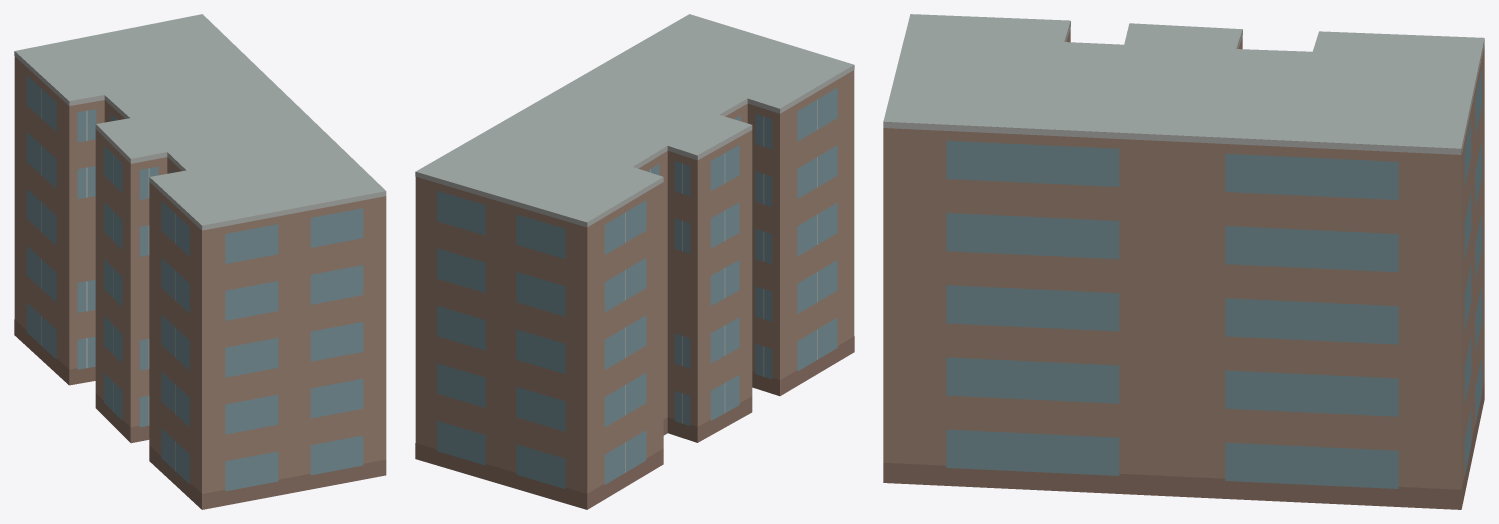
Rendered from survey-upis-32566842.glb.
The picture shows the model from 3 angles, left to right: view 1: azimuth 30°, elevation 25°; view 2: azimuth 150°, elevation 25°; view 3: azimuth 270°, elevation 25°; orthographic projection. The views are drawn at different scales.
Visible parts, largest first — view 1: survey-upis-32566842.tmp; view 2: survey-upis-32566842.tmp; view 3: survey-upis-32566842.tmp.
Part boxes in pixels (<box>): survey-upis-32566842.tmp: <box>14,14,386,509</box>; survey-upis-32566842.tmp: <box>415,14,854,509</box>; survey-upis-32566842.tmp: <box>883,14,1484,509</box>.
Bounding box in the file's own units: 11.29 × 14.1 × 21.29.
